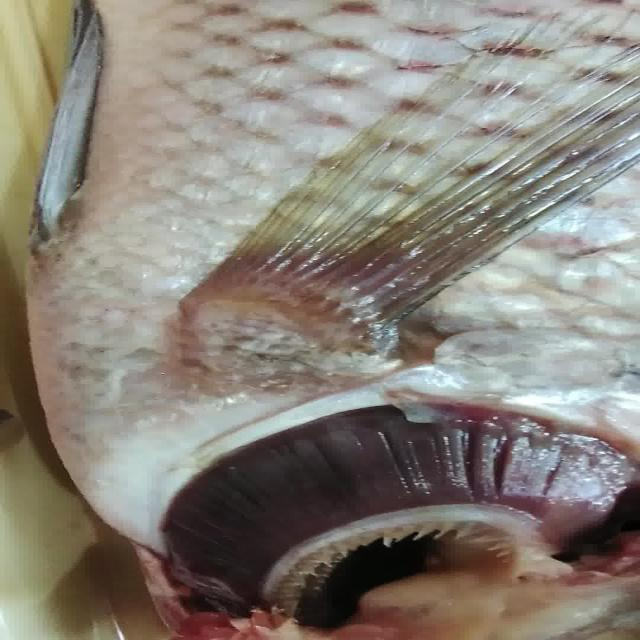Non-Fresh: (136, 399, 638, 640)
